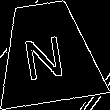N_N: (24, 25, 71, 81)
